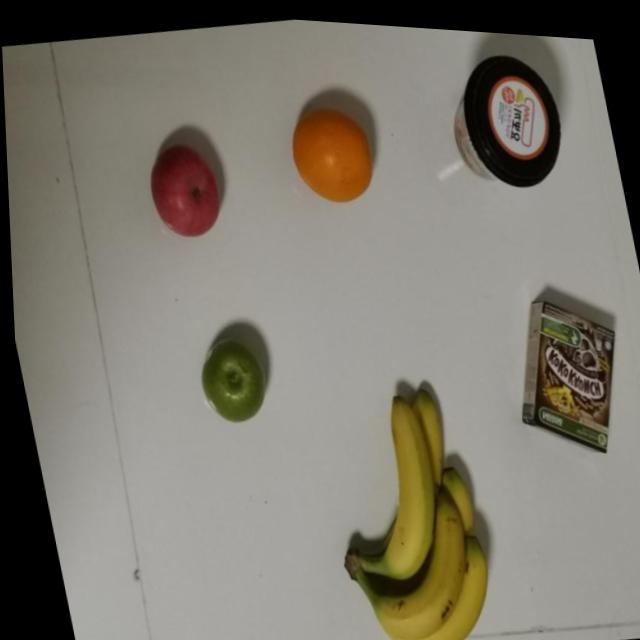Apple: (139, 131, 232, 245), (184, 326, 276, 440)
Banana: (308, 367, 504, 640)
Cerealbox: (491, 262, 640, 482)
Orange: (277, 97, 381, 213)
